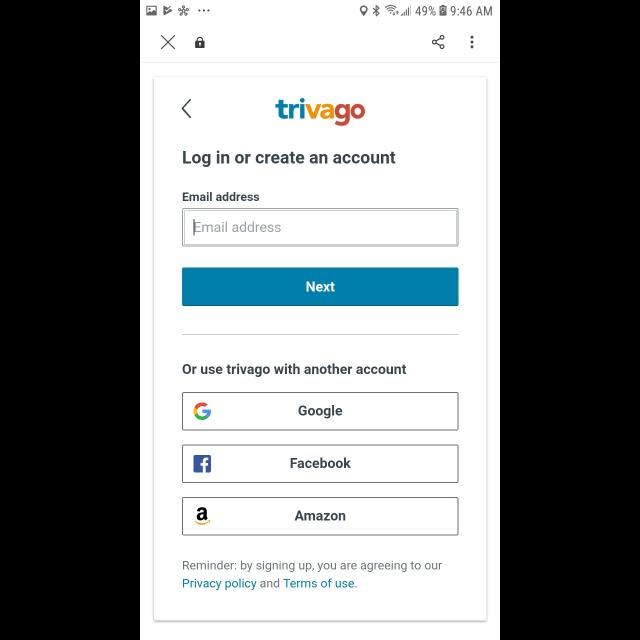icon: (160, 34, 176, 50), (182, 99, 192, 119), (432, 34, 444, 50), (195, 36, 205, 48), (470, 36, 474, 50)
image: (275, 98, 365, 126)
input: (183, 208, 459, 248)
text: (182, 560, 442, 590), (184, 150, 396, 168), (182, 363, 406, 377), (195, 222, 282, 232), (183, 192, 260, 202)
textbutton: (183, 392, 459, 432), (183, 444, 459, 484), (183, 496, 459, 536), (182, 268, 458, 306)
uppertaskbar: (140, 1, 500, 18)
